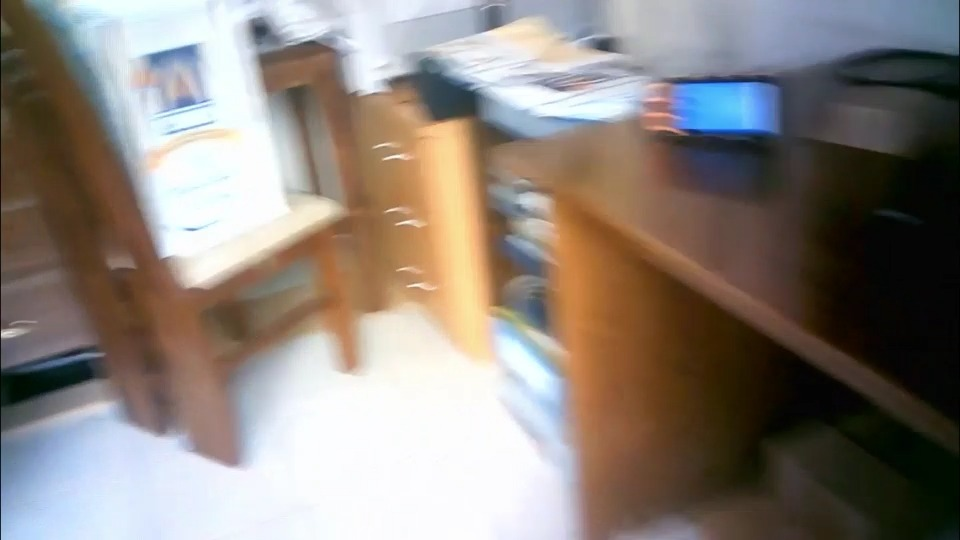wheat_flour_blue_label: (56, 7, 289, 261)
